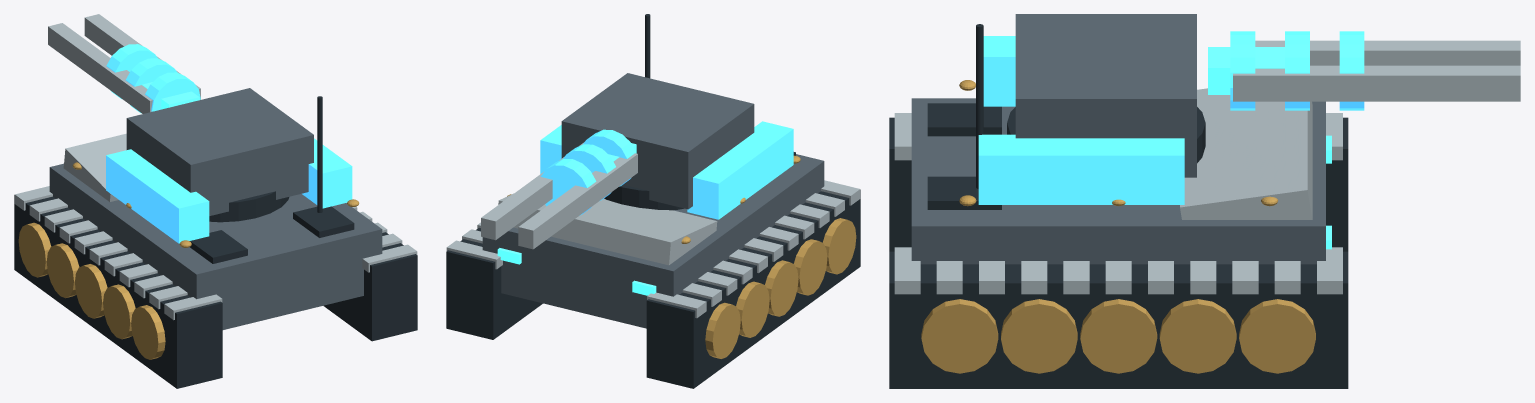
File: rail-tank.glb
3 views of the same model, side by side, from view 1: azimuth 30°, elevation 25°; view 2: azimuth 150°, elevation 25°; view 3: azimuth 270°, elevation 25° (orthographic). The views are drawn at different scales.
Parts seen in each view (by area): view 1: armored lower hull, turret upper armor, carbon continuous track, advanced powerpack, carbon continuous track.001, split accelerator rail, sloped glacis, advanced powerpack.001, track road wheel, track road wheel.003, track road wheel.004, track road wheel.001 (+22 smaller); view 2: armored lower hull, turret upper armor, carbon continuous track, sloped glacis, advanced powerpack, carbon continuous track.001, split accelerator rail, split accelerator rail.001, track road wheel.004, track road wheel, track road wheel.002, track road wheel.001 (+19 smaller); view 3: armored lower hull, carbon continuous track.001, turret upper armor, advanced powerpack.001, sloped glacis, split accelerator rail.001, split accelerator rail, track road wheel.005, track road wheel.008, track road wheel.006, track road wheel.007, track road wheel.009 (+23 smaller).
Part boxes in pixels (<box>): armored lower hull: <box>49,163,382,329</box>; turret upper armor: <box>126,88,313,215</box>; carbon continuous track: <box>14,195,222,388</box>; advanced powerpack: <box>106,149,209,243</box>; carbon continuous track.001: <box>323,232,417,341</box>; split accelerator rail: <box>48,23,152,113</box>; sloped glacis: <box>63,133,126,201</box>; advanced powerpack.001: <box>302,138,352,208</box>; track road wheel: <box>131,305,165,359</box>; track road wheel.003: <box>46,243,79,298</box>; track road wheel.004: <box>18,222,51,277</box>; track road wheel.001: <box>103,284,135,339</box>; armored lower hull: <box>482,154,824,328</box>; turret upper armor: <box>561,73,754,209</box>; carbon continuous track: <box>646,190,860,388</box>; sloped glacis: <box>498,193,717,265</box>; advanced powerpack: <box>687,121,793,219</box>; carbon continuous track.001: <box>446,228,542,339</box>; split accelerator rail: <box>518,153,637,249</box>; split accelerator rail.001: <box>481,142,583,240</box>; track road wheel.004: <box>705,302,740,358</box>; track road wheel: <box>822,218,856,274</box>; track road wheel.002: <box>765,260,798,316</box>; track road wheel.001: <box>794,239,827,295</box>; armored lower hull: <box>911,98,1325,264</box>; carbon continuous track.001: <box>889,251,1348,388</box>; turret upper armor: <box>1015,14,1196,177</box>; advanced powerpack.001: <box>978,134,1184,204</box>; sloped glacis: <box>1180,88,1312,219</box>; split accelerator rail.001: <box>1233,65,1520,101</box>; split accelerator rail: <box>1255,40,1520,65</box>; track road wheel.005: <box>921,299,998,373</box>; track road wheel.008: <box>1159,299,1236,373</box>; track road wheel.006: <box>1001,299,1077,373</box>; track road wheel.007: <box>1080,299,1157,373</box>; track road wheel.009: <box>1239,299,1315,373</box>.
Bounding box in the file's own units: 1.68 × 1.42 × 2.54.
